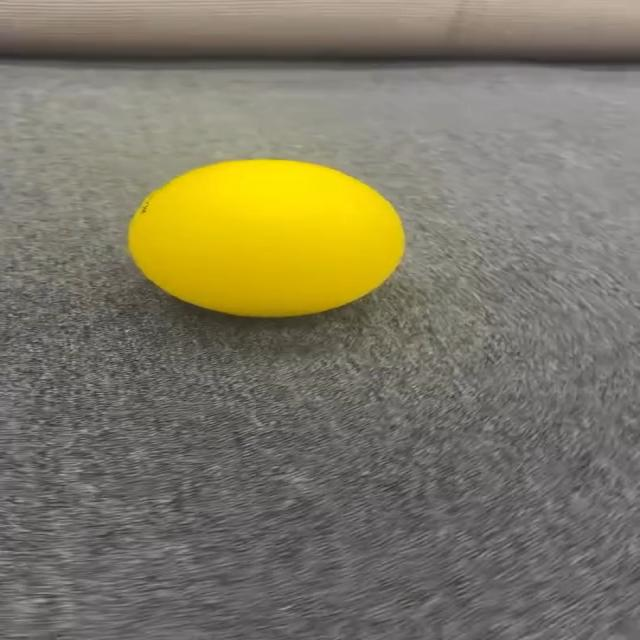Fuels: (128, 160, 402, 314)
